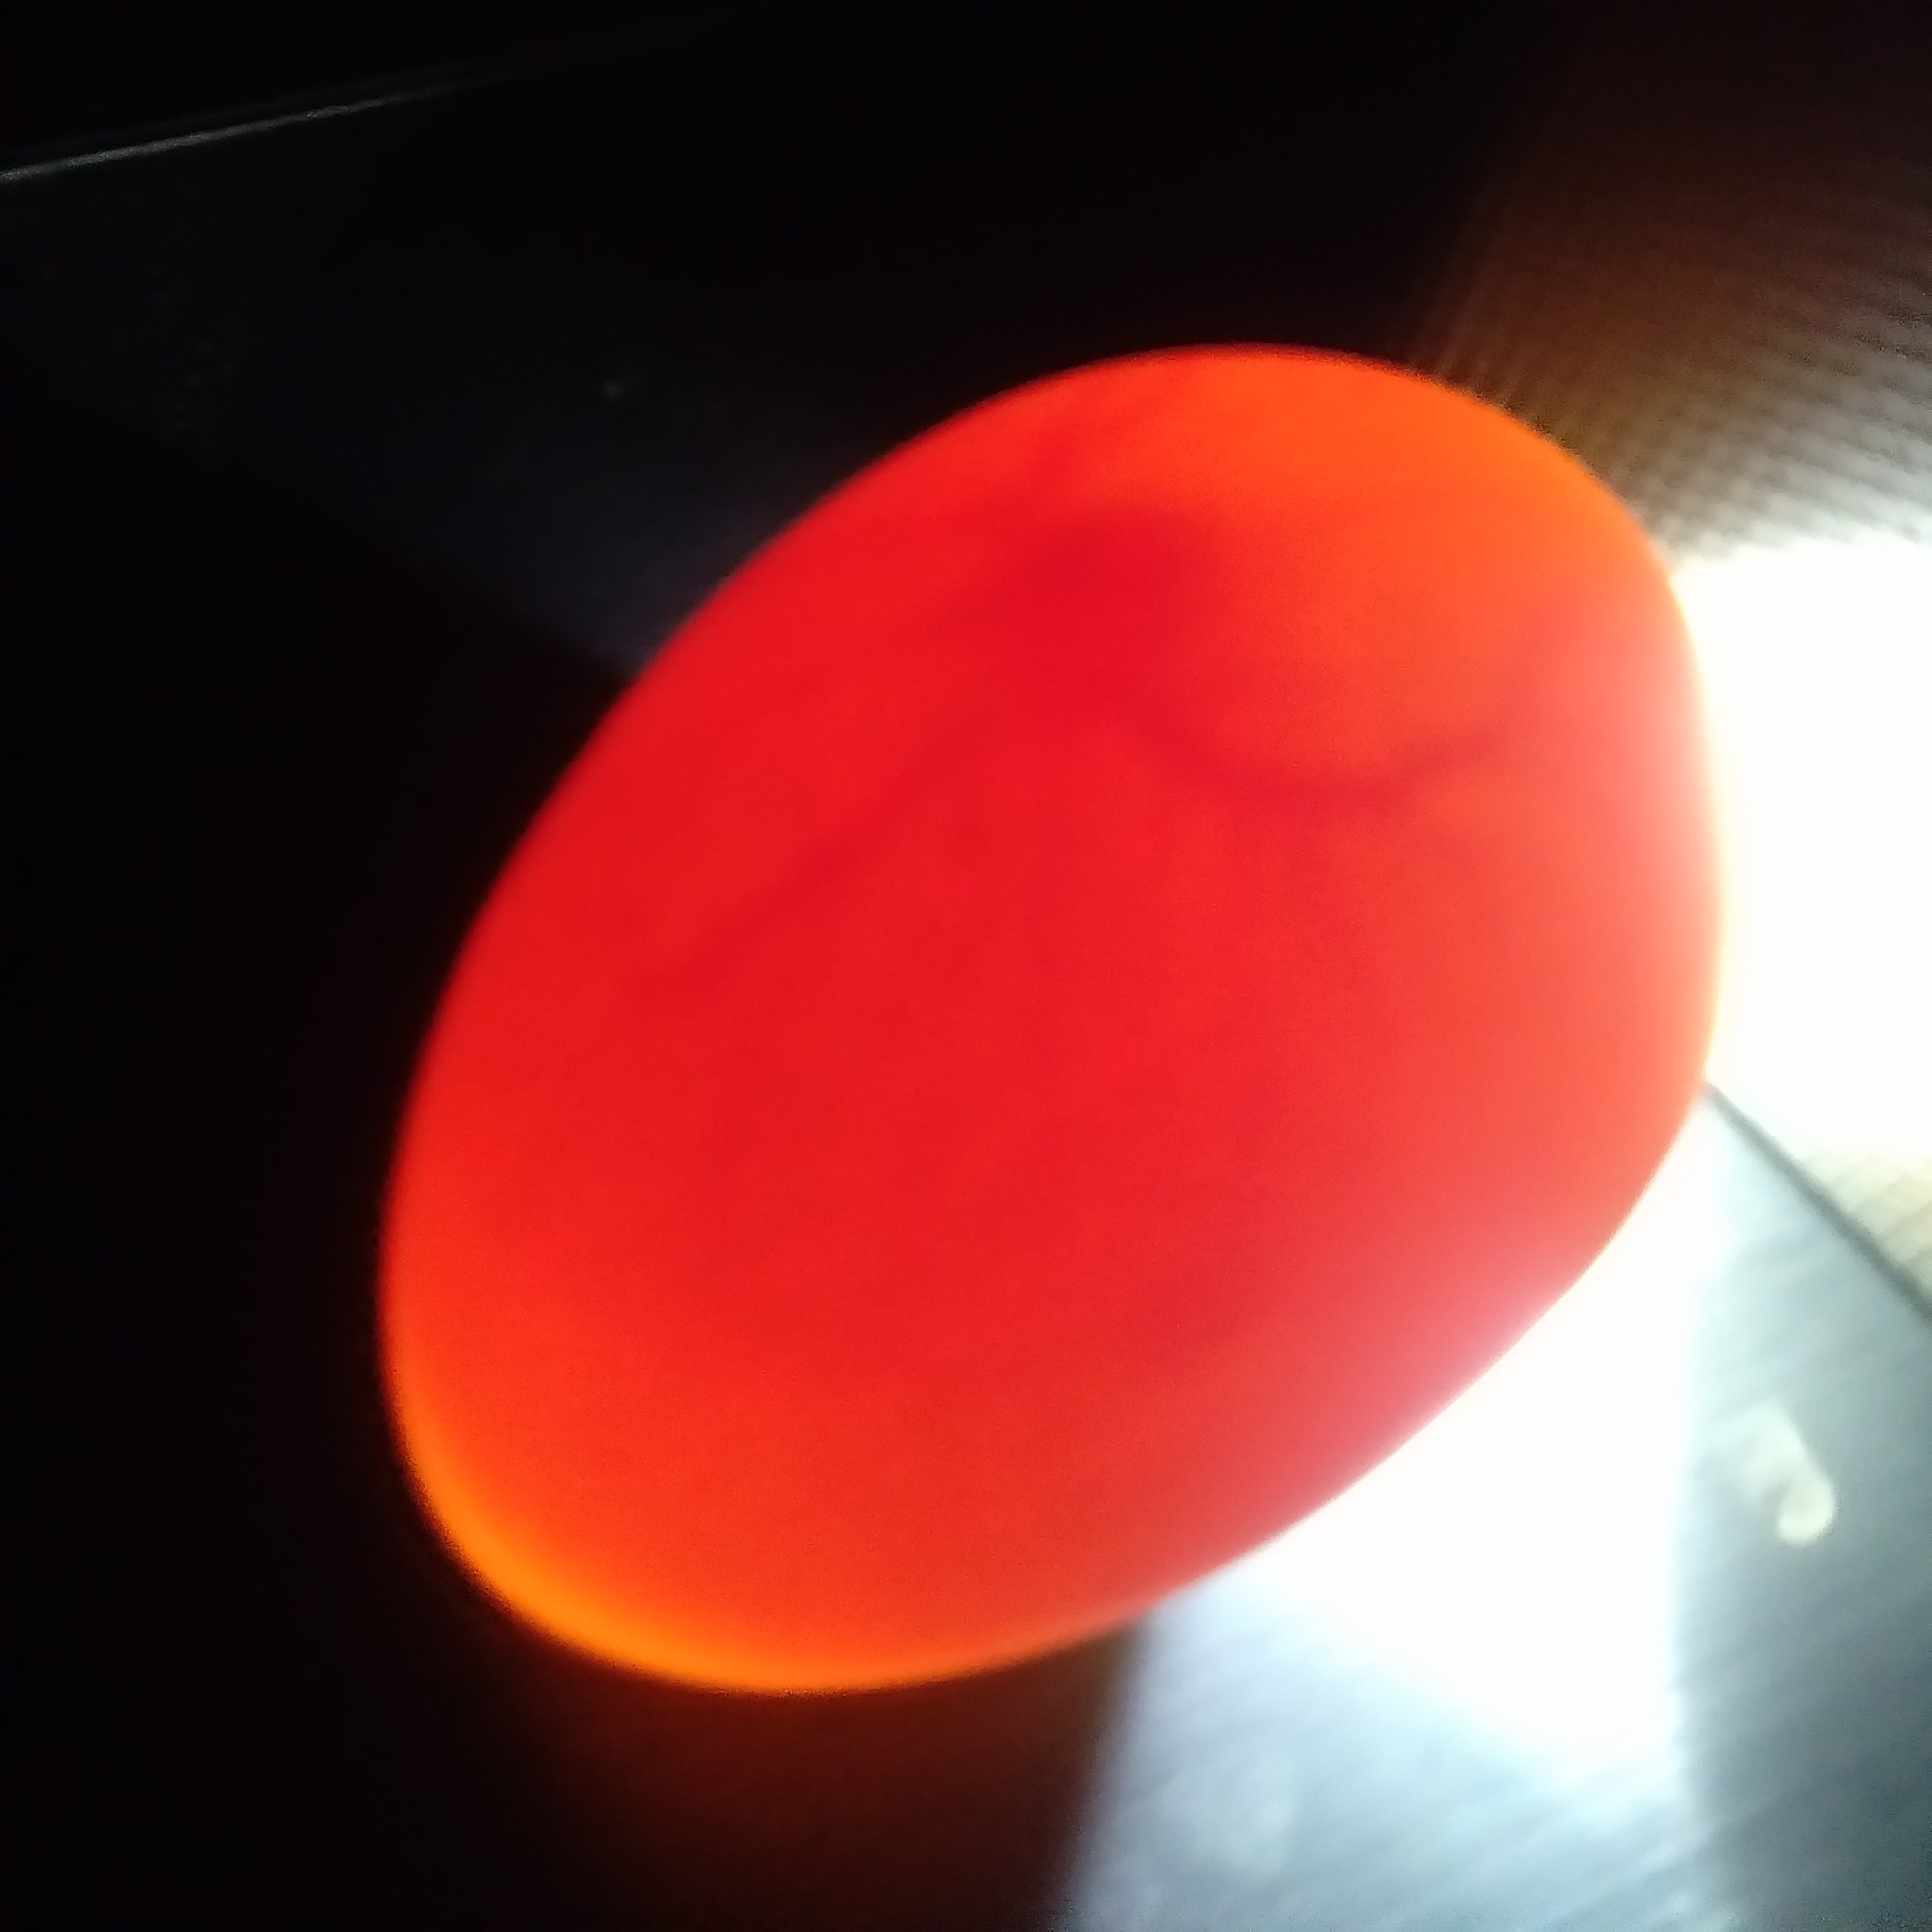bloodcell: (1272, 706, 1596, 1201), (663, 701, 947, 1046)
embryo: (978, 488, 1208, 759)
